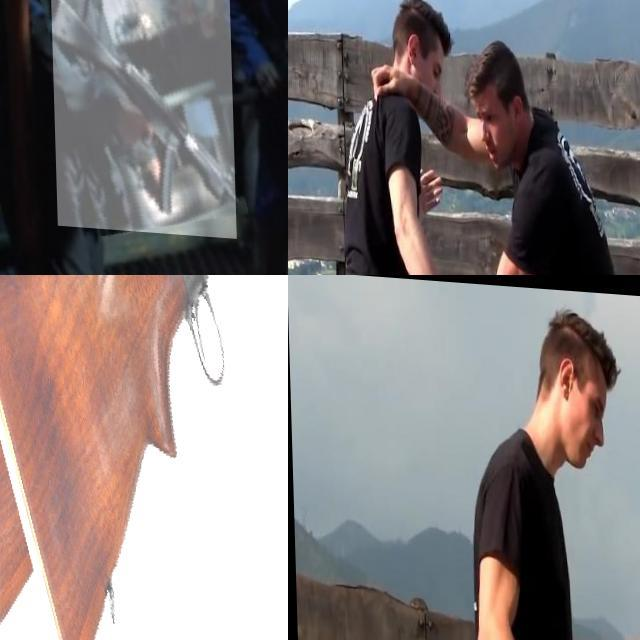gun-knife-thesis - v11 Yolov5 augmented: (0, 275, 288, 640), (48, 0, 233, 232)
